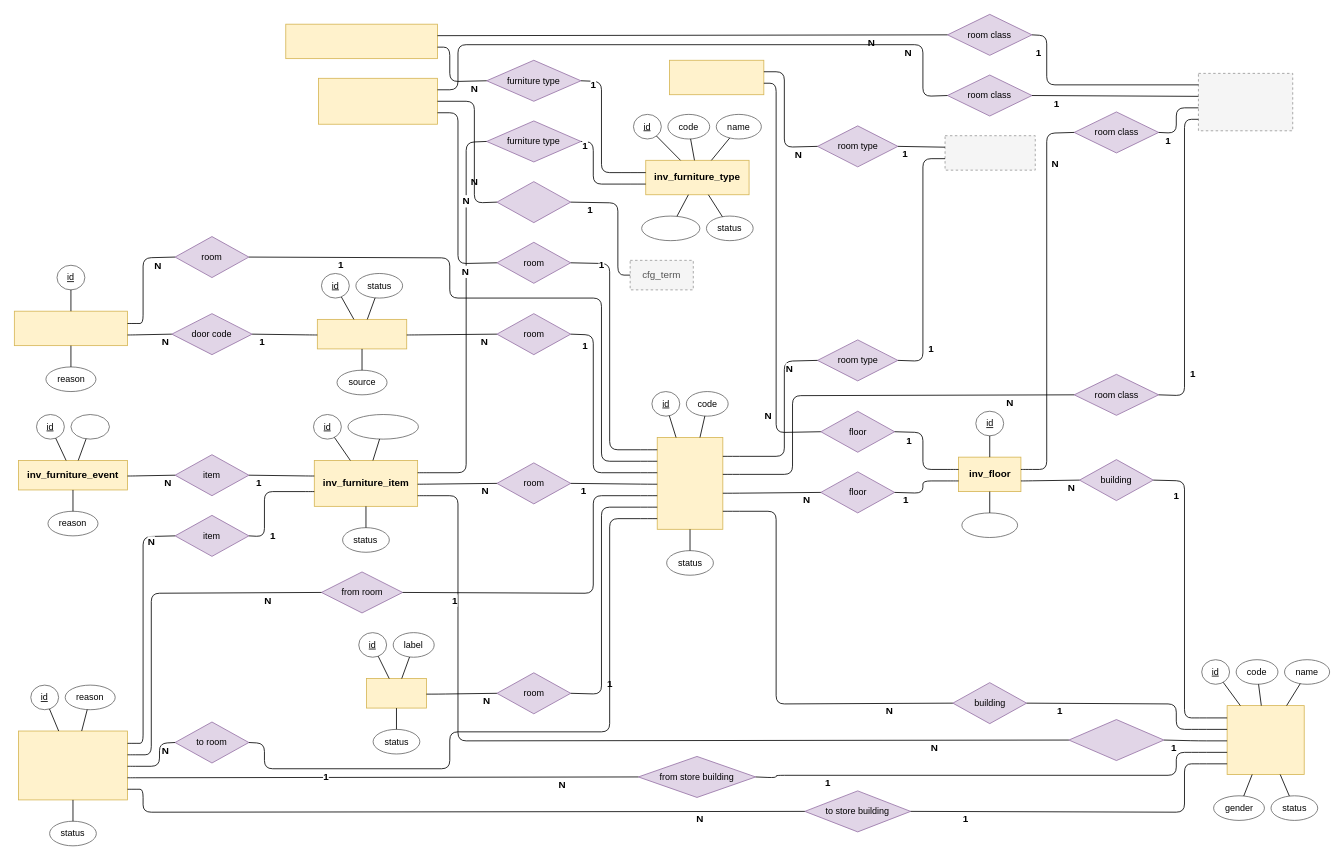
Some shapes in this 1344 by 860 pixel diagram are drawn without their labels. Here are the shapes that lost their labels. From the top down, the centre of each, then its label:
the point at 361,41: inv_room_class_requirement
the point at 716,77: inv_floor_layout
the point at 377,100: inv_room_class_term
the point at 1245,102: cfg_room_class
the point at 989,152: cfg_room_type
the point at 533,202: term
the point at 670,228: category
the point at 71,328: inv_door_code_task
the point at 362,334: inv_door_code
the point at 89,426: kind
the point at 382,426: asset_code
the point at 689,483: inv_room
the point at 989,525: floor_no
the point at 396,693: inv_bed
the point at 1116,740: store building
the point at 1265,739: inv_building
the point at 73,765: inv_furniture_move
